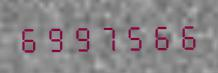five: (121, 19, 146, 52)
nine: (69, 20, 94, 53), (43, 21, 68, 53)
seven: (95, 20, 120, 52)
six: (17, 21, 42, 54), (173, 18, 198, 51), (147, 19, 172, 51)
